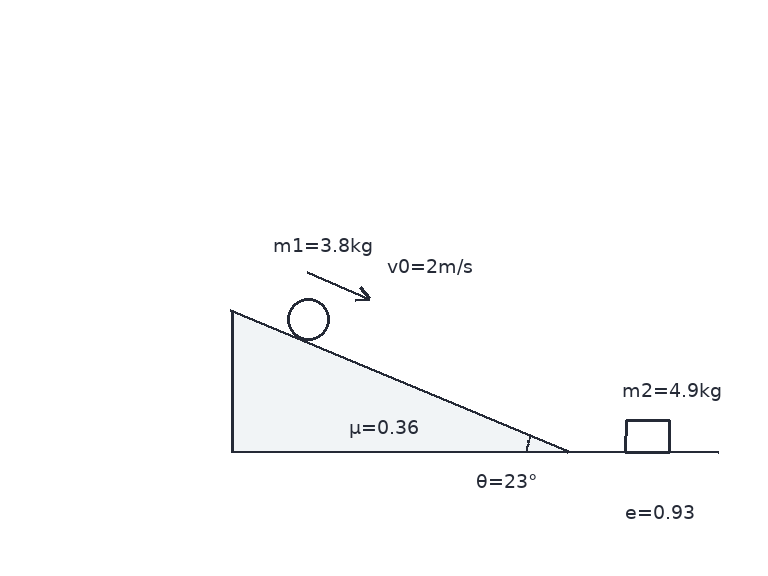ball: (285, 296, 331, 342)
block: (623, 418, 671, 454)
ramp: (230, 308, 569, 454)
